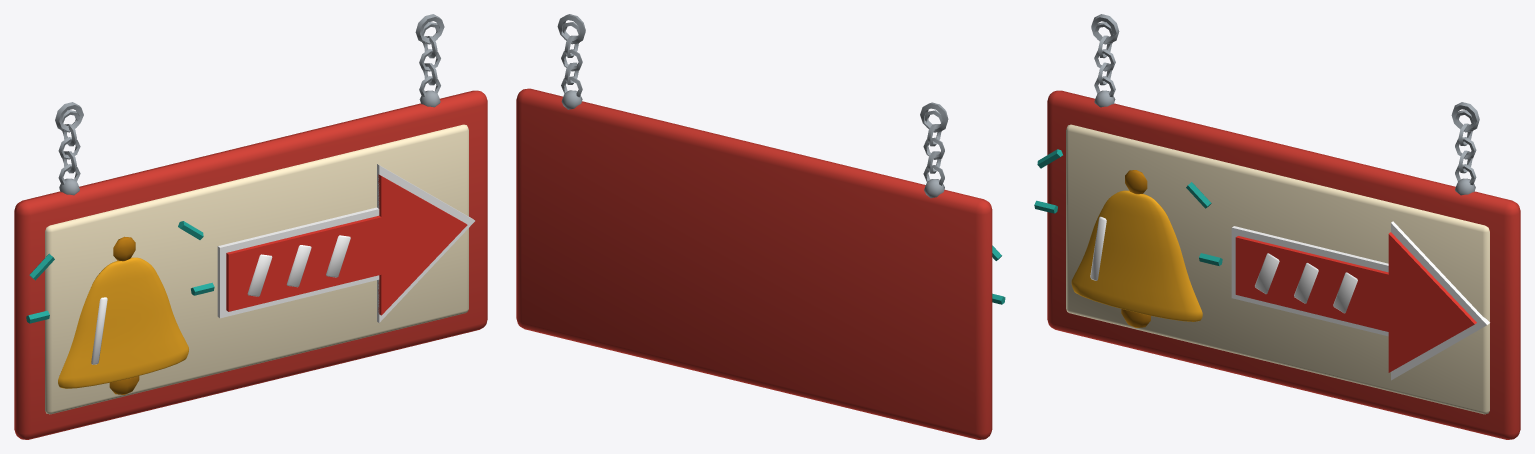
The model's file is truck_order_bell_sign.glb.
3 views of the same model, side by side, from view 1: azimuth 30°, elevation 25°; view 2: azimuth 150°, elevation 25°; view 3: azimuth 330°, elevation 25° (orthographic).
Parts seen in each view (by area): view 1: TruckOrderBellSign; view 2: TruckOrderBellSign; view 3: TruckOrderBellSign.
Part boxes in pixels (x1,y1,x2,y2): TruckOrderBellSign: (14, 14, 487, 439); TruckOrderBellSign: (516, 14, 1005, 439); TruckOrderBellSign: (1034, 14, 1520, 439).
Bounding box in the file's own units: 6 × 3.95 × 0.5498.
